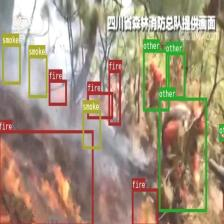fire: (0, 130, 93, 224), (132, 188, 158, 224), (87, 92, 113, 118), (108, 70, 120, 125), (48, 79, 66, 104)
smoke: (28, 55, 47, 97), (82, 110, 101, 149), (2, 43, 20, 84)
